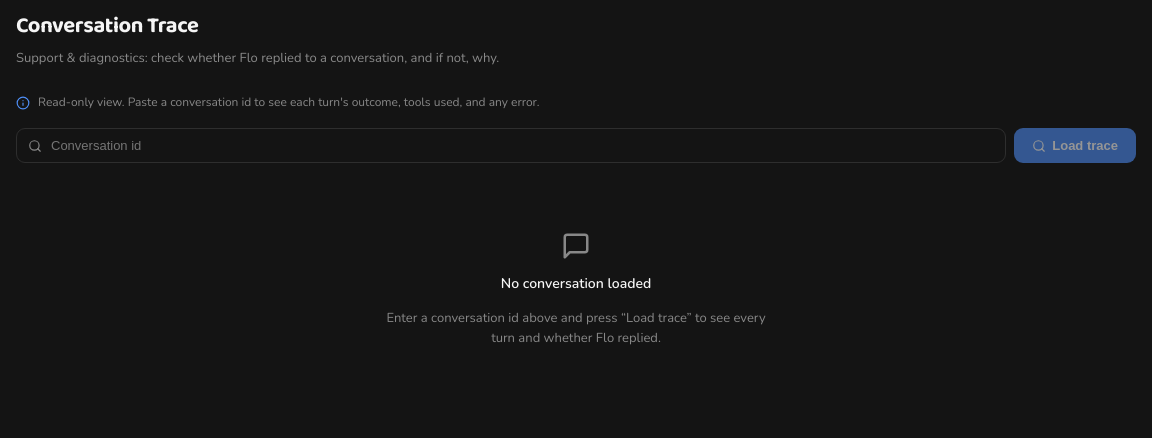
Test: renders both answered and unavailable outcomes
Type "conv-123" into the field with test id "trace-conv-id-input" at (511, 146), box [16,128,1006,163]
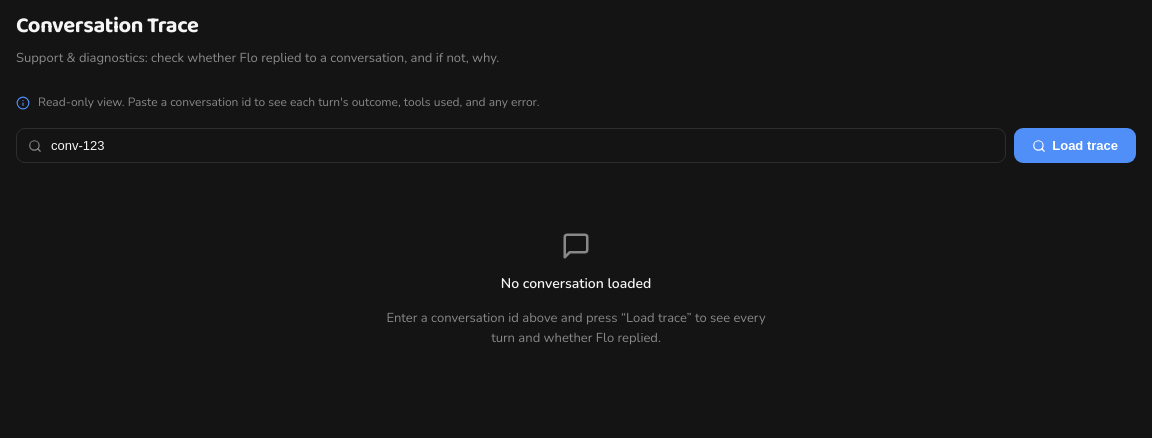
Click the button with test id "trace-load-btn" at (1075, 146), box [1014,128,1136,163]
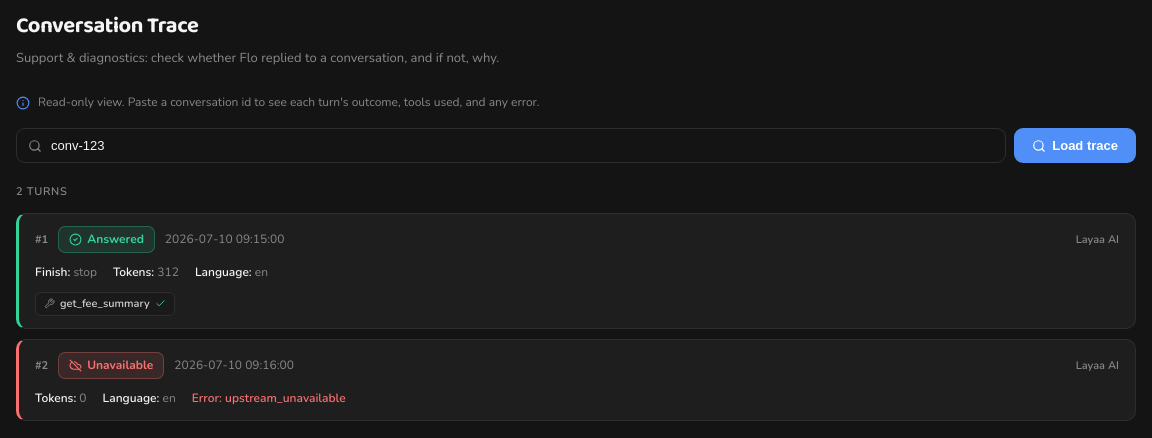
Check: the element with test id "trace-timeline" is shown, box [16,183,1136,421]
Check: the text "Answered" is shown, box [58,226,155,253]
Check: the text "Unavailable" is shown, box [58,352,164,379]
